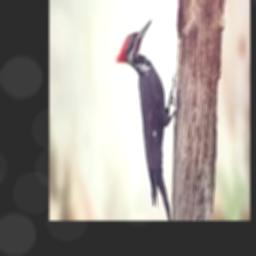Woodpecker: (115, 18, 177, 220)
